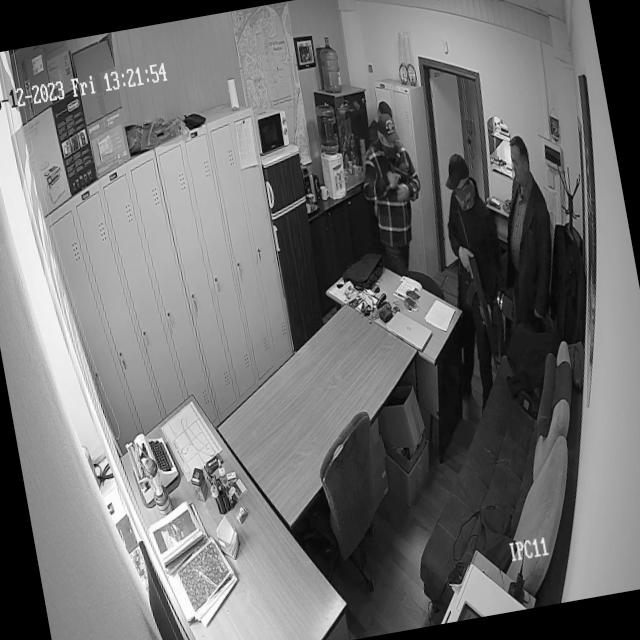gun: (465, 240, 530, 423), (388, 158, 409, 192)
person: (499, 146, 551, 260)
person with a gun: (428, 123, 550, 499), (348, 80, 446, 307)
